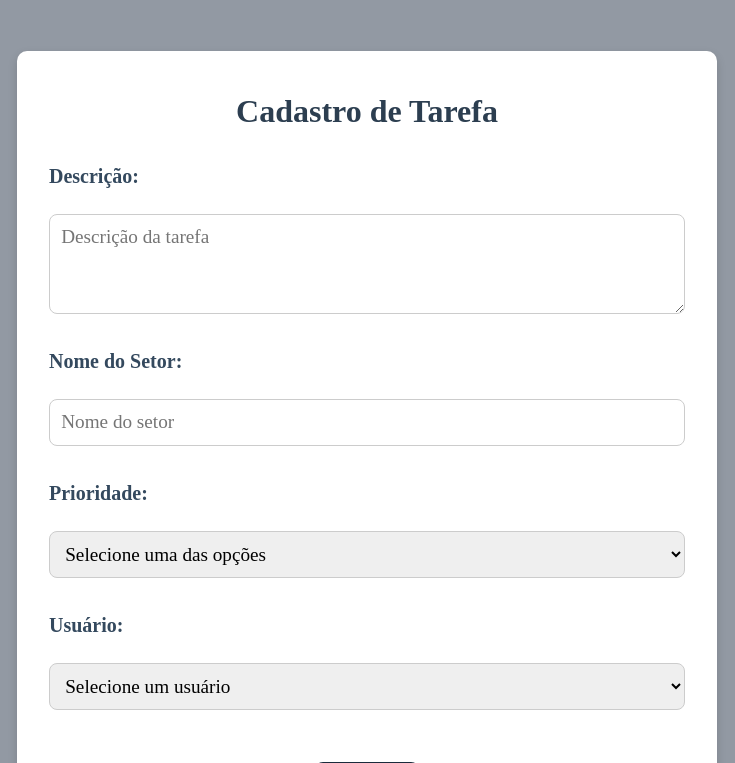
CadTarefa › deve exibir erro quando o nome do setor contém números
Type "Setor12345" into the field labelled "Nome do Setor:" at (367, 422), box top-left (49, 399), bottom-right (685, 446)
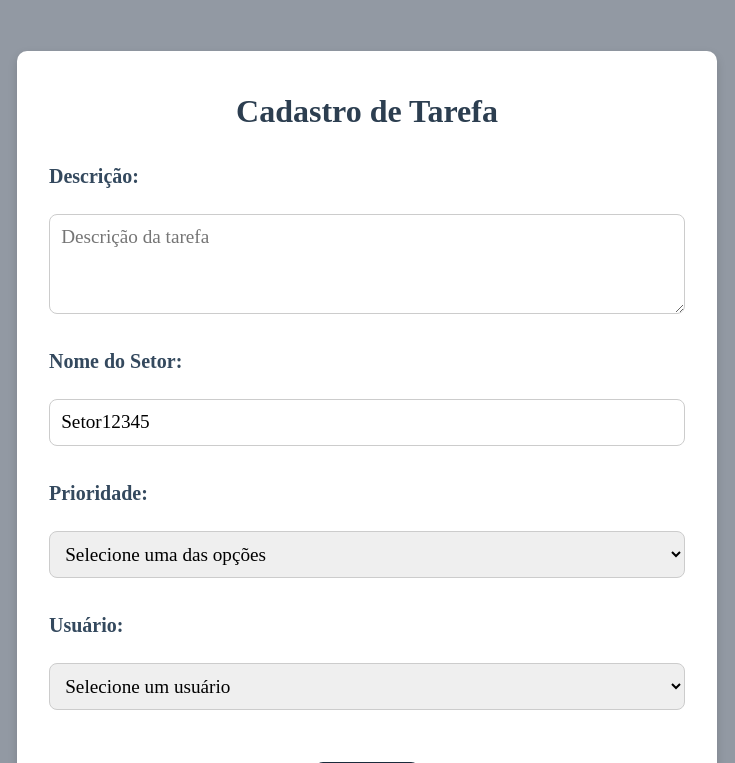
Type "Descrição válida com mais de 10 caracteres" into the text box labelled "Descrição:" at (367, 264), box top-left (49, 214), bottom-right (685, 314)
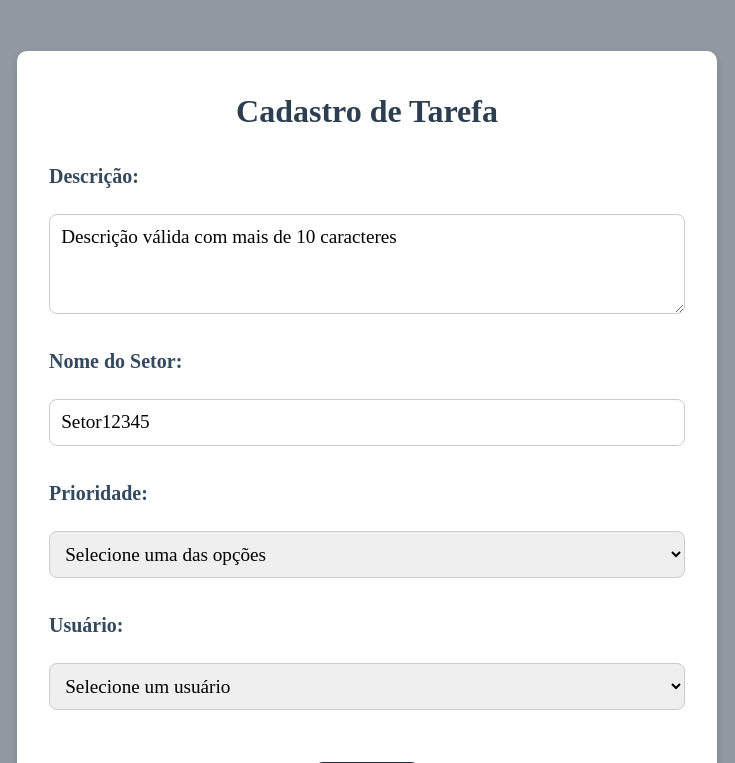
Select "baixa" in the dropdown labelled "Prioridade:" at (367, 554), box top-left (49, 530), bottom-right (685, 578)
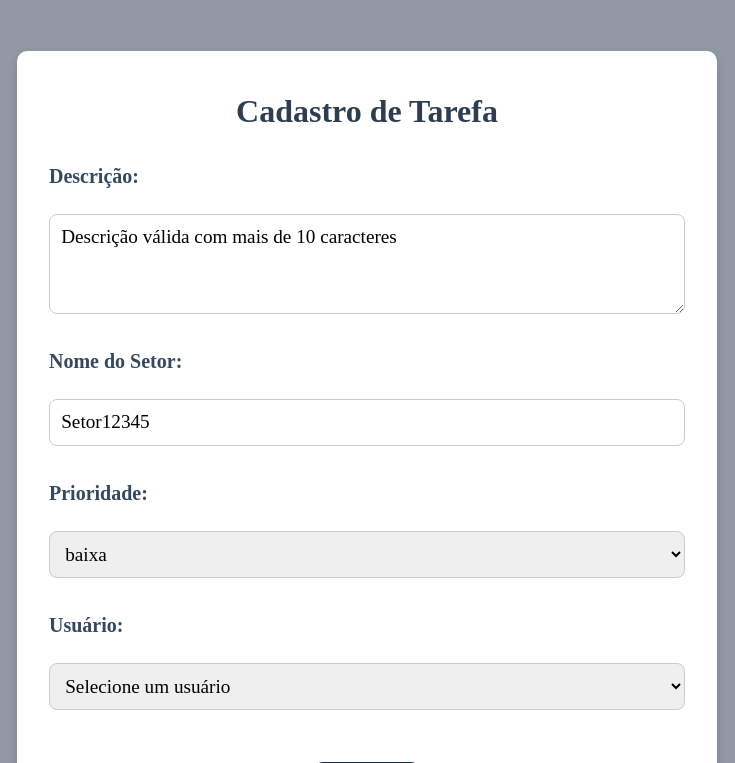
Select "Usuário Teste" in the dropdown labelled "Usuário:" at (367, 687), box top-left (49, 663), bottom-right (685, 710)
(page scrolled)
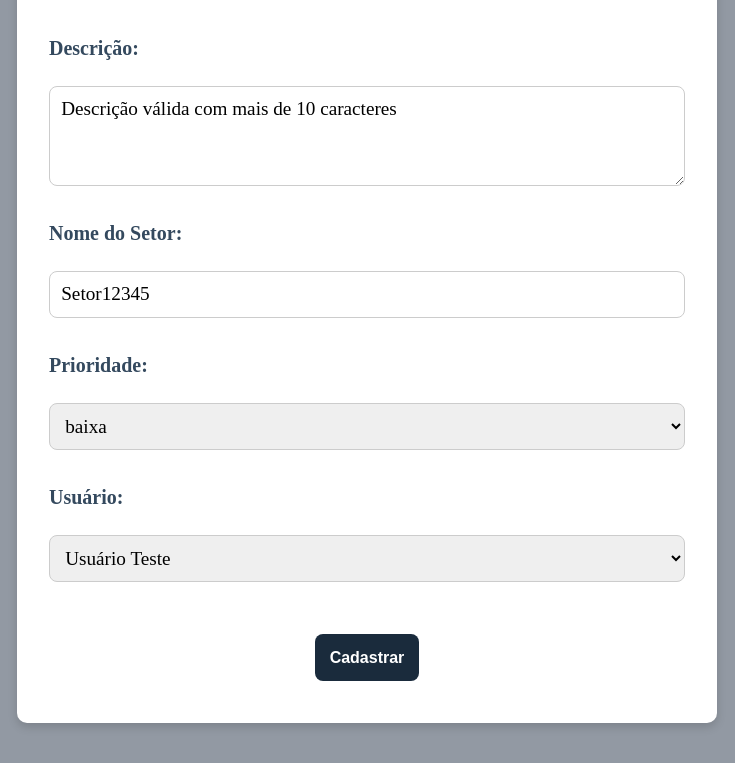
Click the button "Cadastrar" at (367, 658), box top-left (315, 634), bottom-right (419, 681)
(page scrolled)
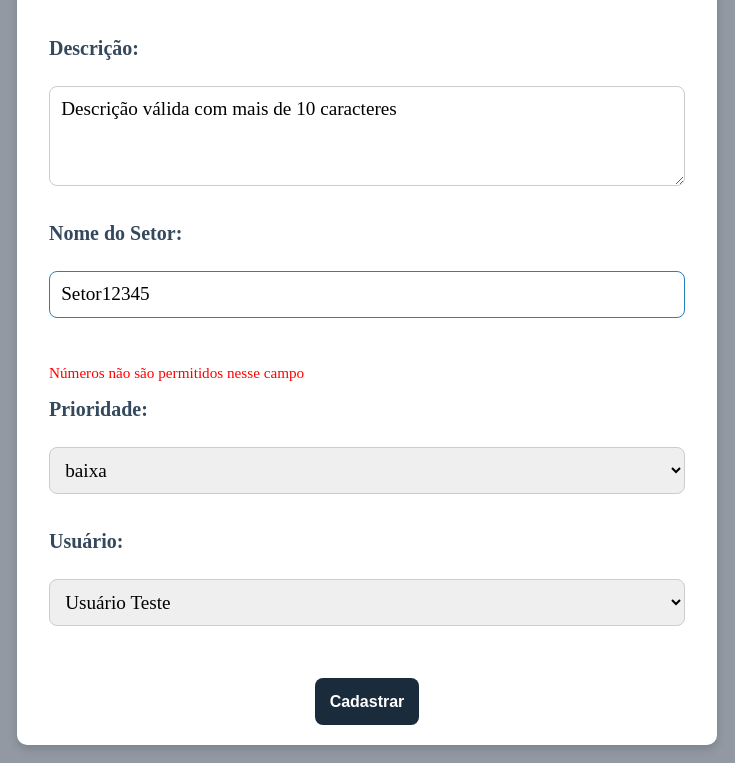
Result: the text "Números não são permitidos nesse campo" is shown at top-left (49, 364), bottom-right (304, 380)
